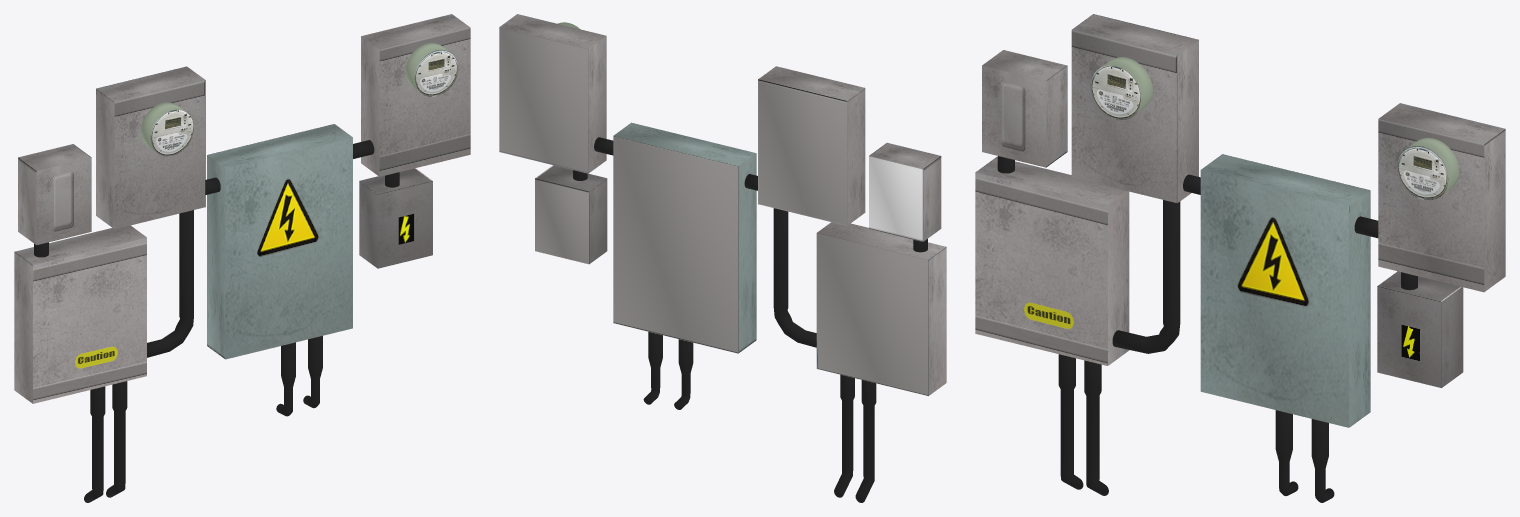
Rendered from electric_meter_with_fuse_boxes.glb.
The picture shows the model from 3 angles, left to right: view 1: azimuth 30°, elevation 25°; view 2: azimuth 150°, elevation 25°; view 3: azimuth 330°, elevation 25°; orthographic projection. The views are drawn at different scales.
Visible parts, largest first — view 1: ElectricMeterWBoxes; view 2: ElectricMeterWBoxes; view 3: ElectricMeterWBoxes.
Part boxes in pixels (bbox=[...]): ElectricMeterWBoxes: bbox=[14, 14, 470, 502]; ElectricMeterWBoxes: bbox=[499, 14, 946, 502]; ElectricMeterWBoxes: bbox=[975, 14, 1505, 502].
Size of the model in its own units: 5.36 by 4.79 by 0.6106.
Materials: 3 (2 with a texture image).
